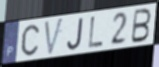2: (109, 11, 129, 47)
B: (130, 8, 153, 45)
C: (21, 23, 41, 58)
J: (66, 17, 85, 52)
L: (87, 16, 104, 50)
V: (43, 16, 65, 57)
